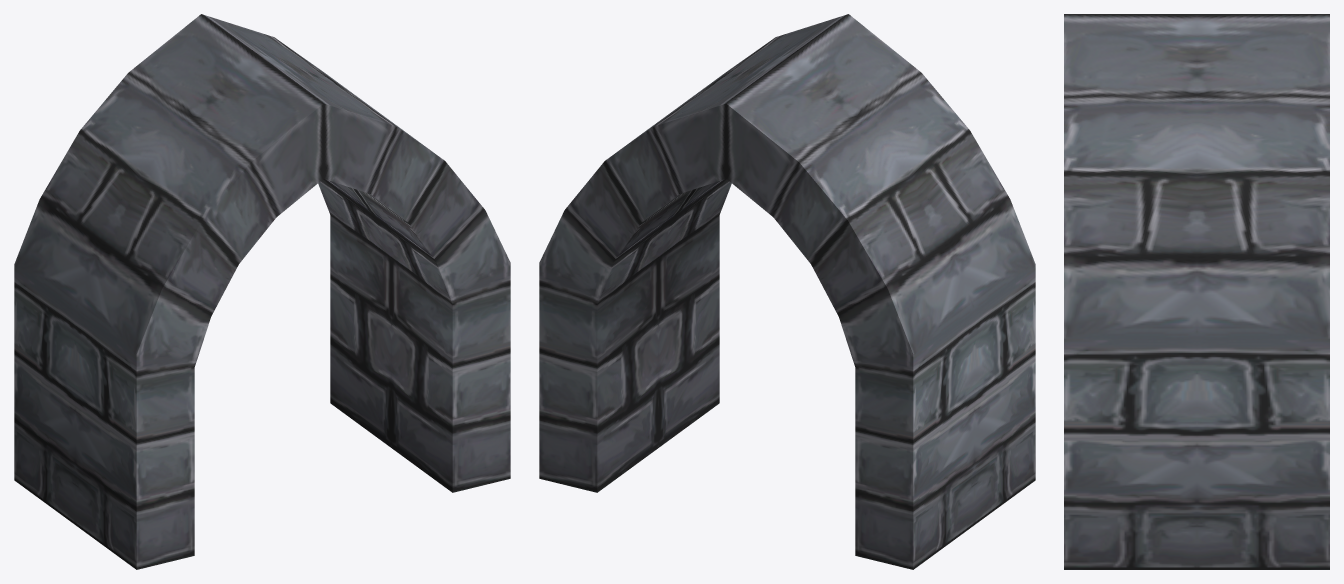
The model's file is e_asset_door_frame.fbx.
The picture shows the model from 3 angles, left to right: view 1: azimuth 30°, elevation 25°; view 2: azimuth 150°, elevation 25°; view 3: azimuth 270°, elevation 25°; orthographic projection. The views are drawn at different scales.
Parts seen in each view (by area): view 1: polySurface2767; view 2: polySurface2767; view 3: polySurface2767.
Boxes of the visible parts, x1,y1,x2,y2 form: polySurface2767: (14, 14, 510, 569); polySurface2767: (539, 14, 1035, 569); polySurface2767: (1064, 14, 1329, 569).
Bounding box in the file's own units: 2.31 × 2.48 × 1.31.
